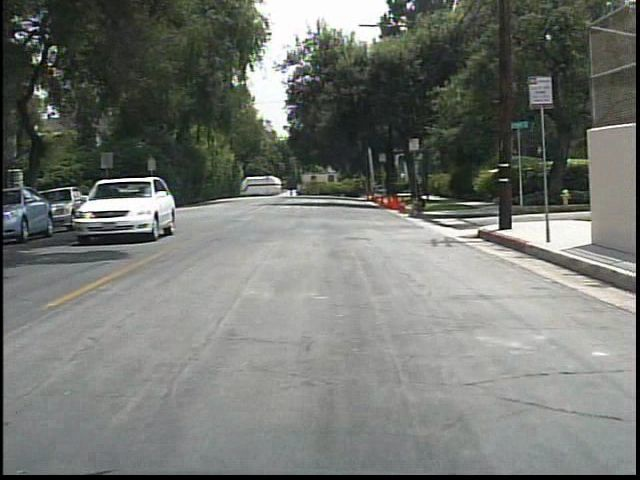person: (405, 189, 433, 221)
